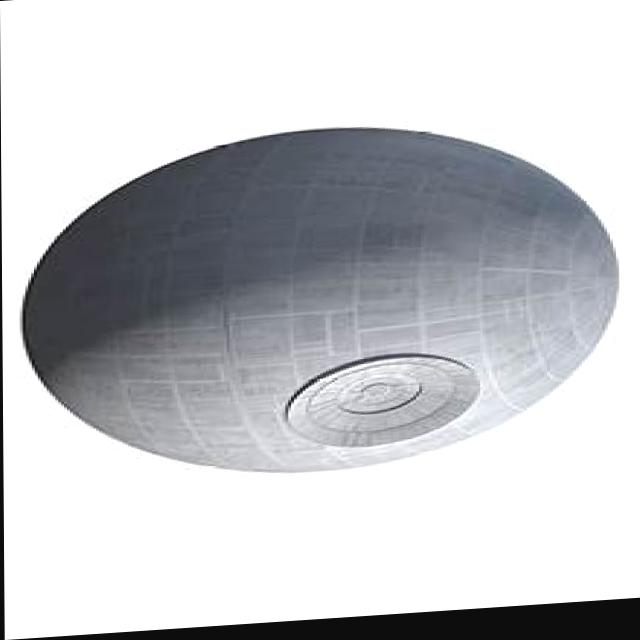deathStar: (16, 114, 626, 490)
